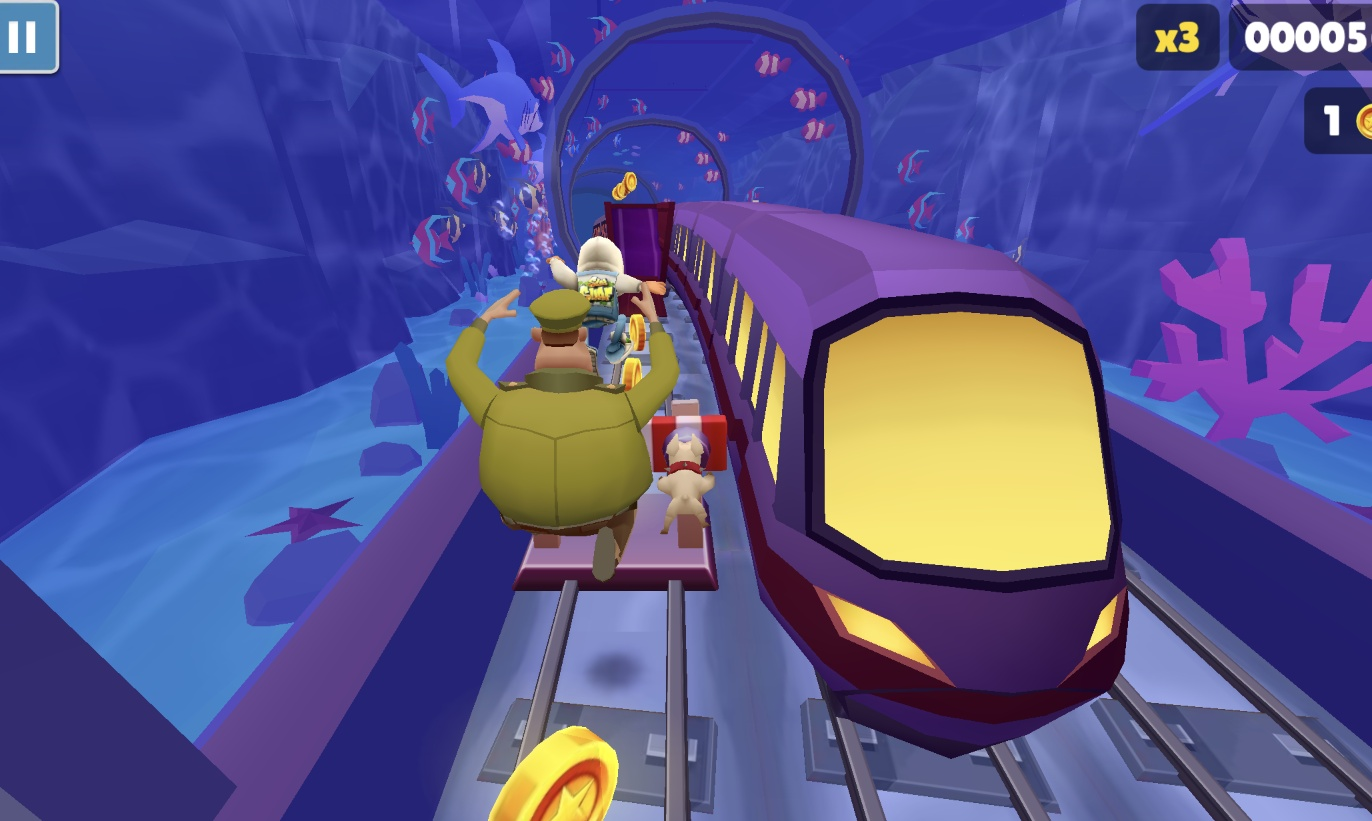ground_barrier: (504, 398, 723, 592)
train: (664, 198, 1132, 759), (578, 198, 677, 304)
